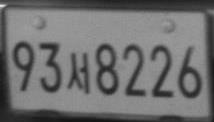2: (121, 42, 145, 96), (149, 43, 173, 97)
3: (38, 42, 62, 93)
6: (178, 45, 202, 98)
8: (95, 43, 119, 96)
9: (11, 40, 35, 91)
서: (66, 52, 91, 94)
